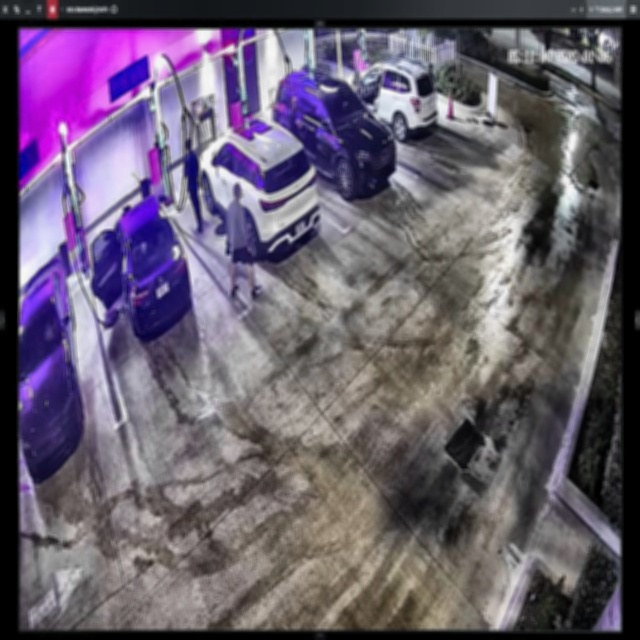Car: (200, 117, 321, 256), (280, 69, 392, 195), (98, 195, 192, 340)
